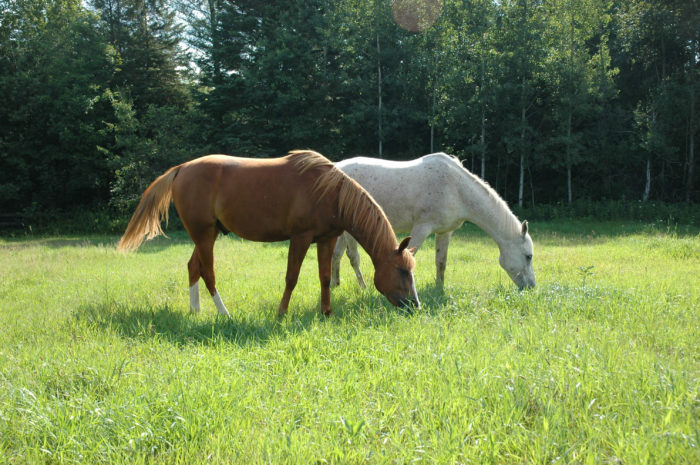Horse: (90, 150, 430, 352), (297, 135, 578, 334)
